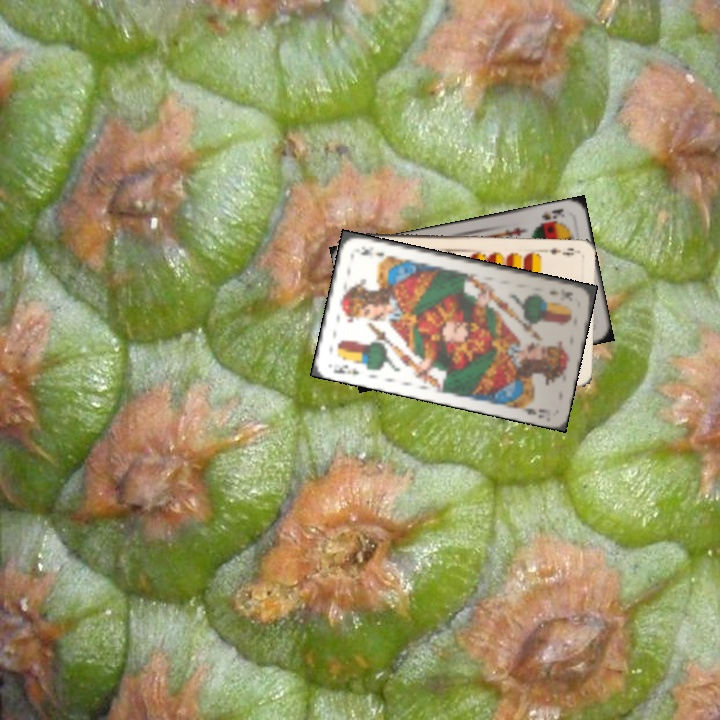E9: (540, 244, 577, 258)
EK: (329, 361, 362, 377), (545, 284, 575, 300)
SK: (536, 205, 566, 227)
